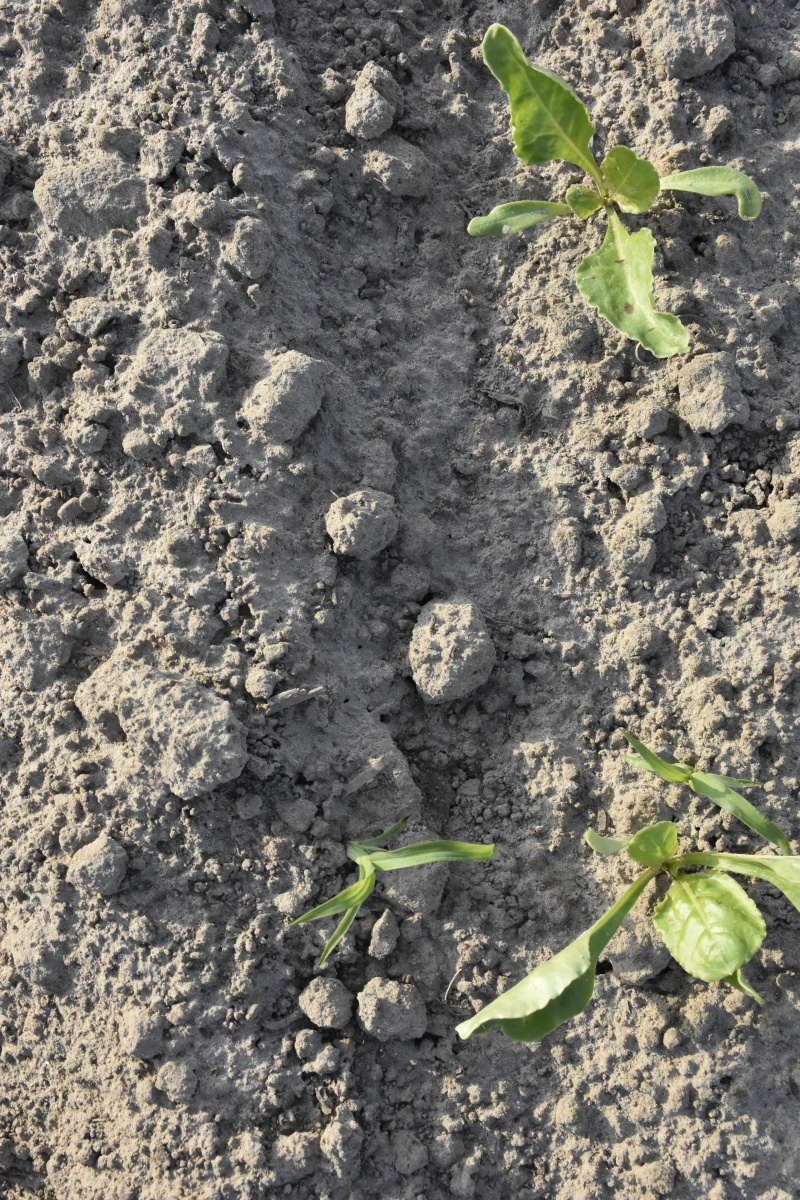sugar beet: (450, 28, 767, 388), (451, 826, 800, 1060)
